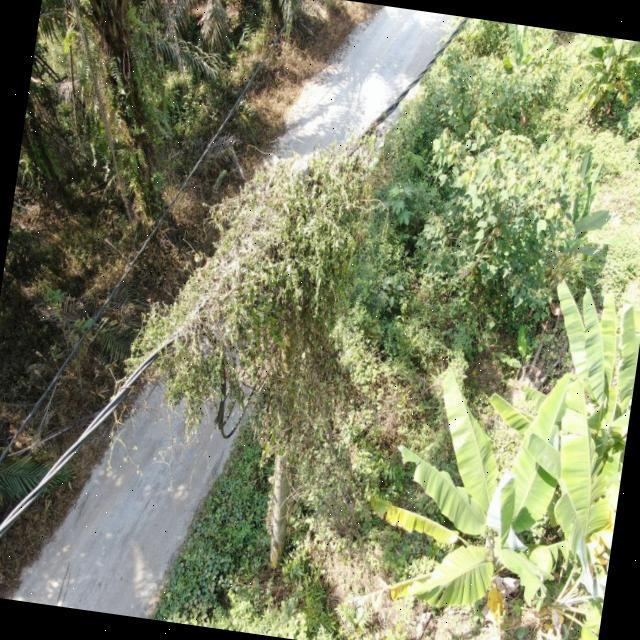critical vegetation: (84, 87, 416, 540)
